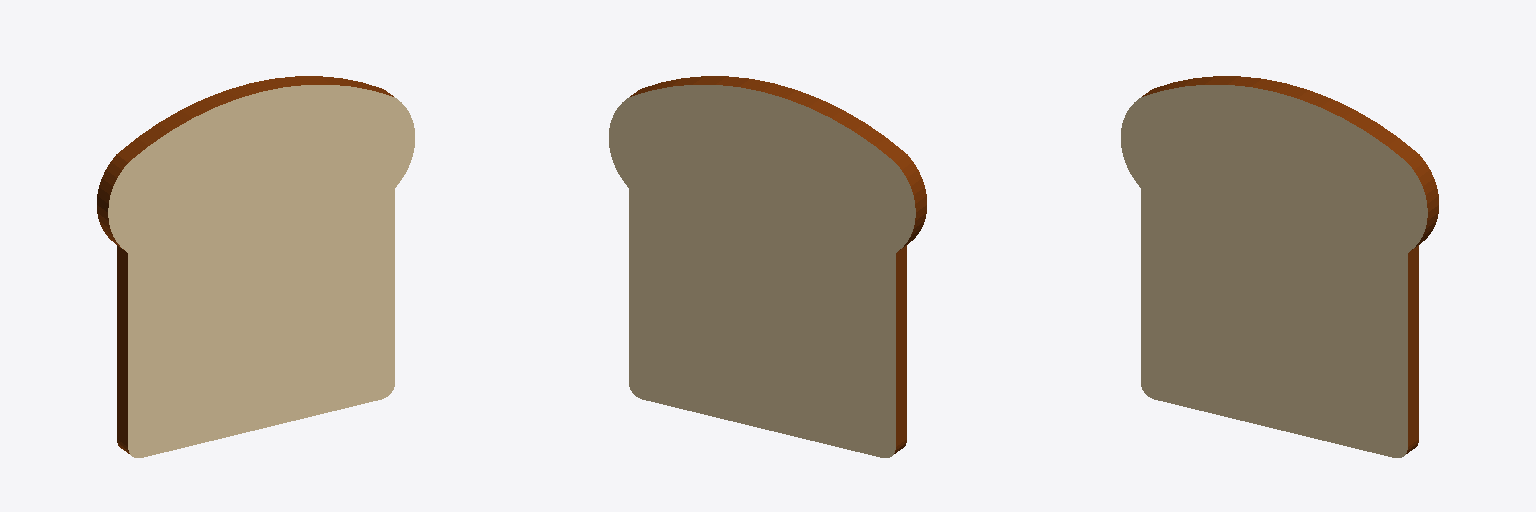
The picture shows the model from 3 angles: view 1: azimuth 30°, elevation 25°; view 2: azimuth 150°, elevation 25°; view 3: azimuth 330°, elevation 25°; orthographic projection.
Visible parts, largest first — view 1: bread; view 2: bread; view 3: bread.
Boxes of the visible parts, box(x1,y1,x2,y2) form: bread: box(97, 76, 414, 457); bread: box(609, 76, 926, 457); bread: box(1121, 76, 1438, 457).
Size of the model in its own units: 5.75 by 6.03 by 0.375.